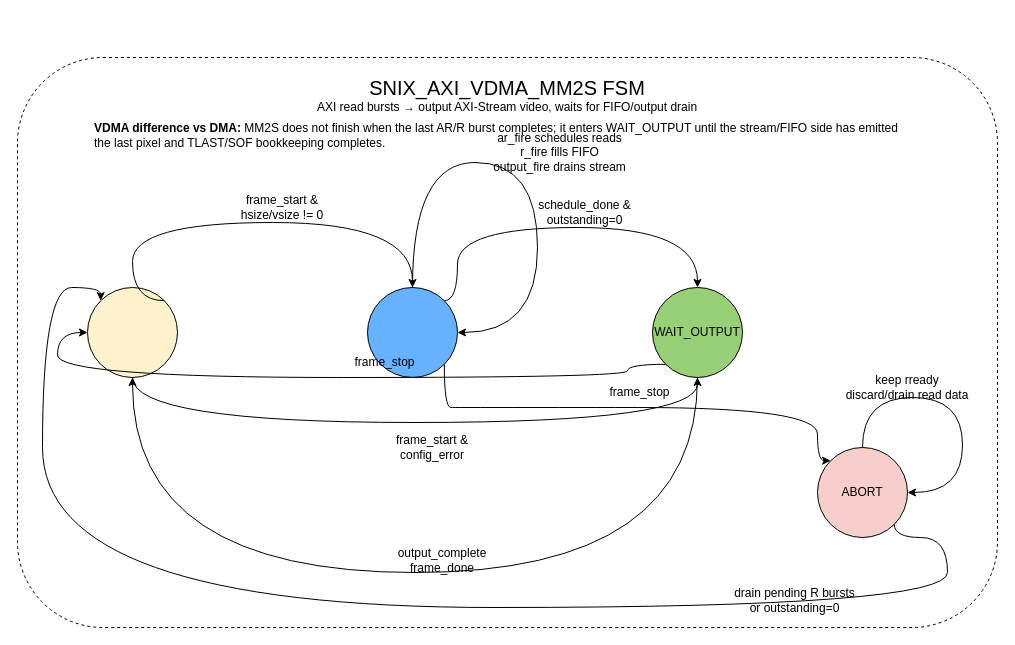
The diagram is 1015 pixels wide and 645 high, and some of its shapes have lost their labels. Here are the shapes that lost their labels. From the top down, the box of each, then its label:
(86, 286, 178, 378): IDLE
(366, 286, 458, 378): ACTIVE
